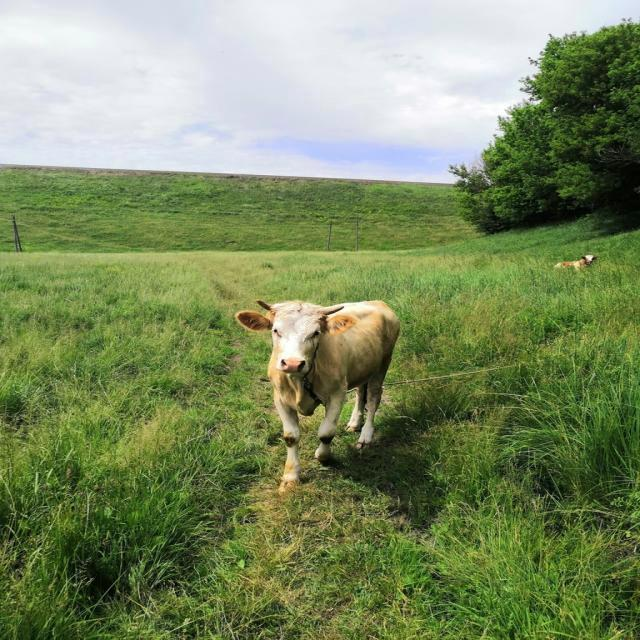cow: (236, 300, 400, 488)
